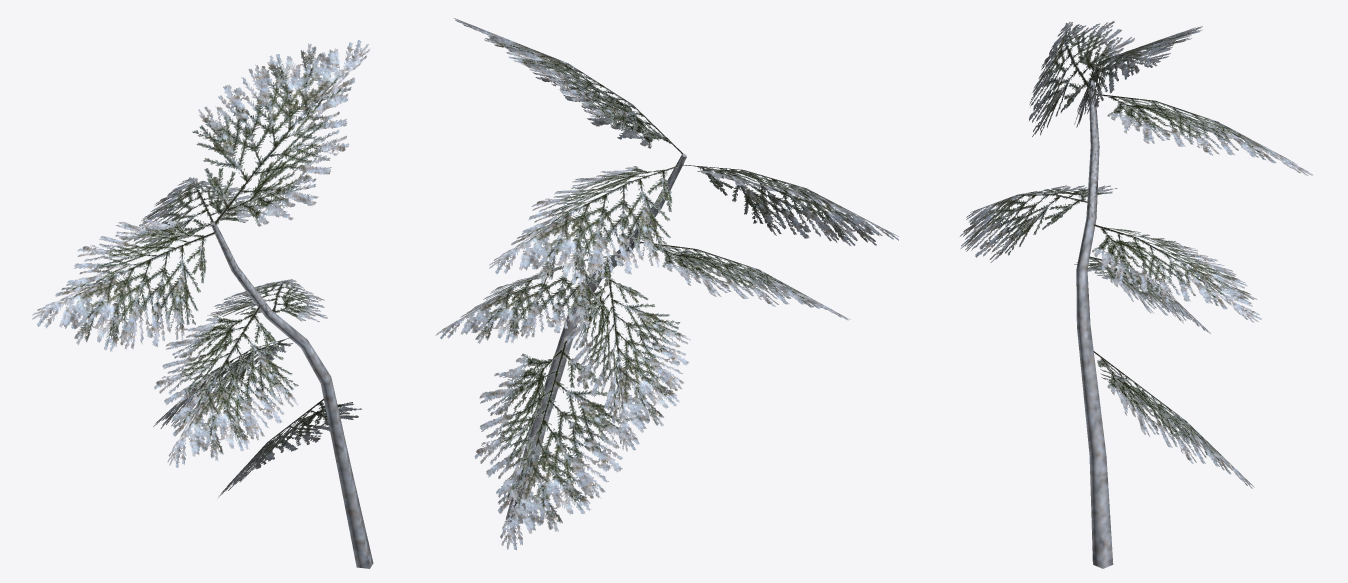
Rendered from SM_EN_2007_guanmu04.FBX.
3 views of the same model, side by side, from view 1: azimuth 30°, elevation 25°; view 2: azimuth 150°, elevation 25°; view 3: azimuth 270°, elevation 25° (orthographic). The views are drawn at different scales.
Visible parts, largest first — view 1: SM_EN_2007_guanmu04; view 2: SM_EN_2007_guanmu04; view 3: SM_EN_2007_guanmu04.
Part boxes in pixels (<box>): SM_EN_2007_guanmu04: <box>32,40,373,568</box>; SM_EN_2007_guanmu04: <box>435,18,898,550</box>; SM_EN_2007_guanmu04: <box>960,21,1312,568</box>.
Size of the model in its own units: 265 by 317 by 209.
